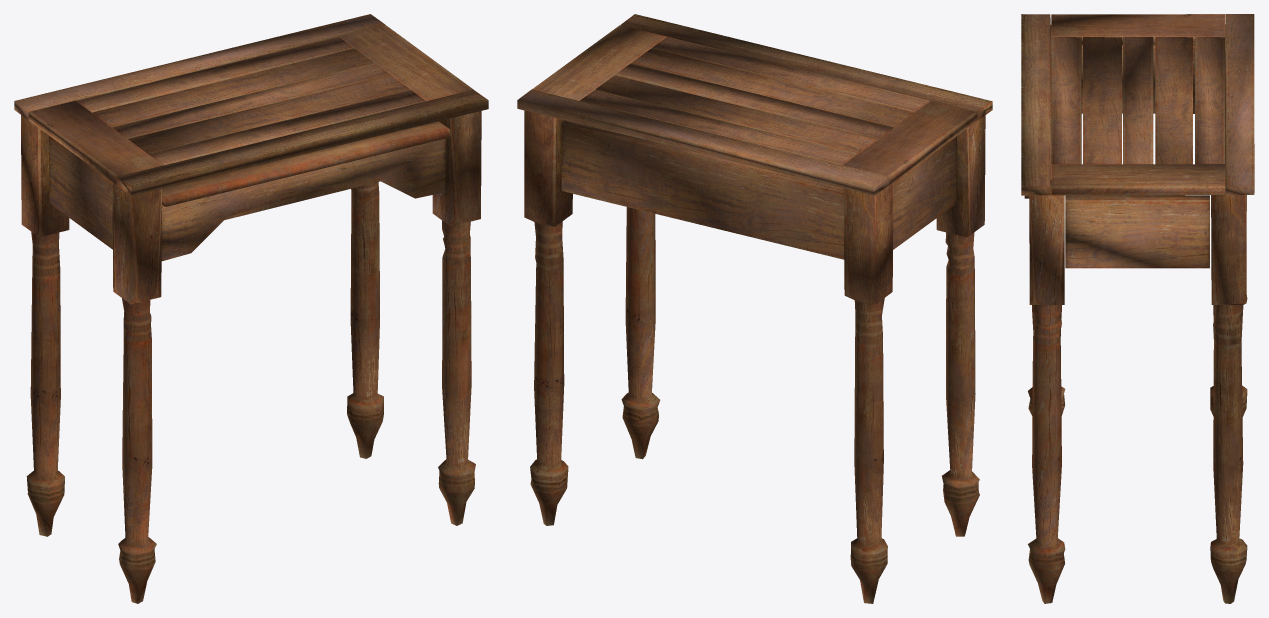
Rendered from Antique Rustic Wooden Lamp Table.001.fbx.
3 views of the same model, side by side, from view 1: azimuth 30°, elevation 25°; view 2: azimuth 150°, elevation 25°; view 3: azimuth 270°, elevation 25° (orthographic).
Visible parts, largest first — view 1: Antique Rustic Wooden Lamp Table.001; view 2: Antique Rustic Wooden Lamp Table.001; view 3: Antique Rustic Wooden Lamp Table.001.
Boxes of the visible parts, x1=… form: Antique Rustic Wooden Lamp Table.001: x1=14, y1=14, x2=488, y2=603; Antique Rustic Wooden Lamp Table.001: x1=517, y1=14, x2=992, y2=603; Antique Rustic Wooden Lamp Table.001: x1=1021, y1=14, x2=1254, y2=603.
Bounding box in the file's own units: 62 × 71.06 × 35.36.
Materials: 1 (1 with a texture image).
